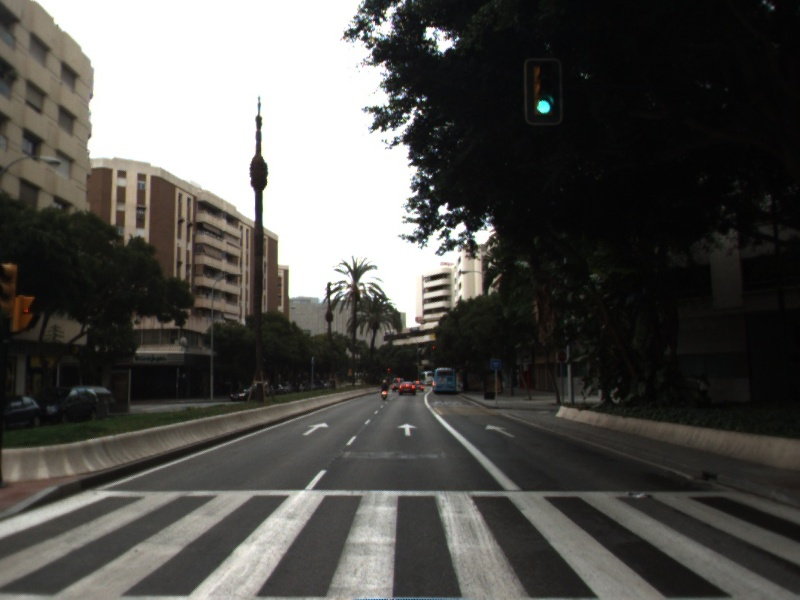STRAIGHT: (482, 422, 518, 439), (300, 420, 331, 438), (395, 421, 420, 438)
